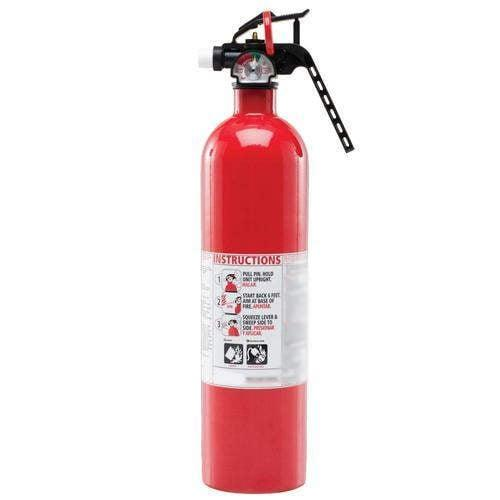Fire Extinguisher: (173, 10, 379, 500)
